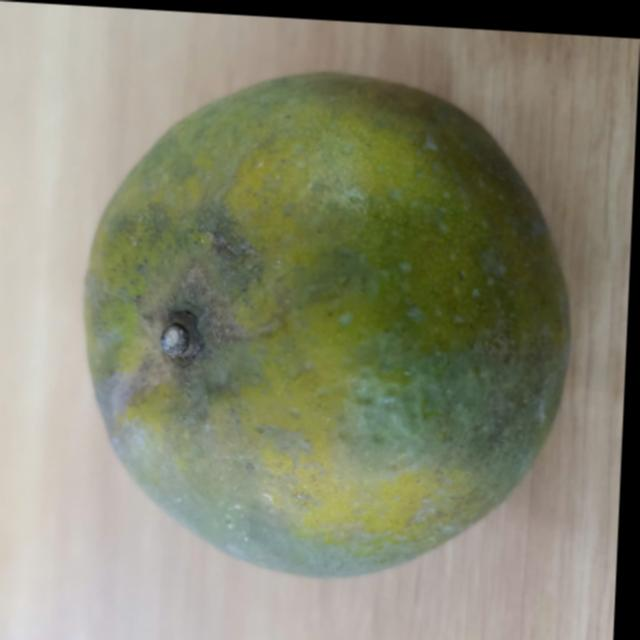Cam: (71, 53, 589, 588)
